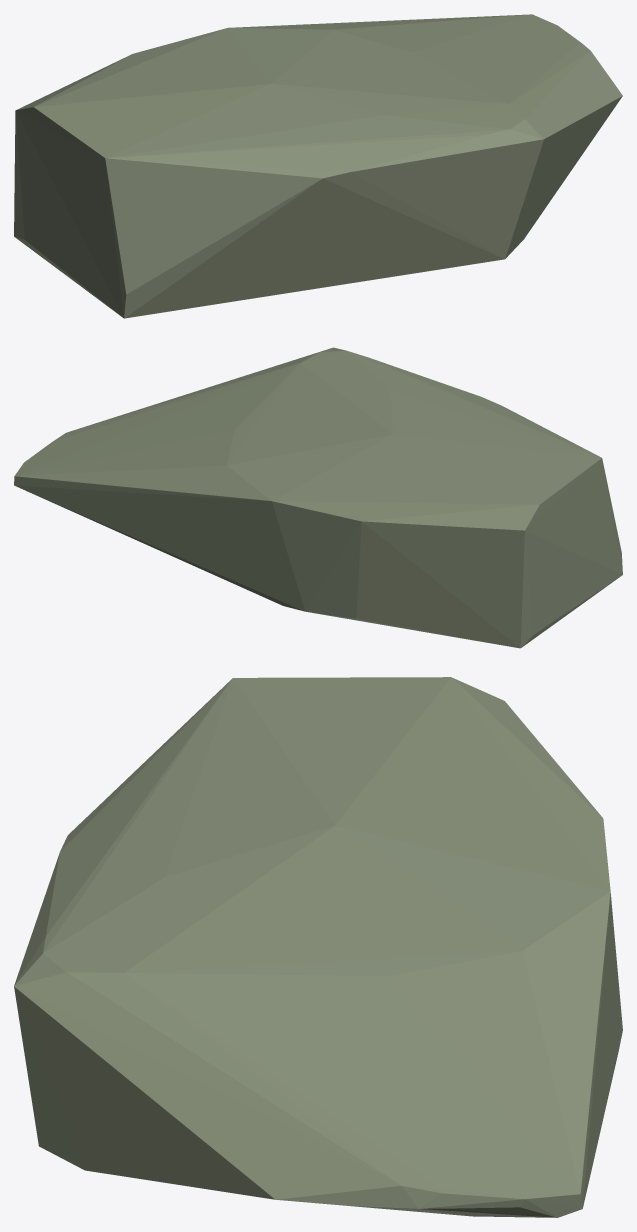
The model's file is equipment_airHoseReel_retractable_a01.glb.
3 renders of one model, top to bottom at view 1: azimuth 30°, elevation 25°; view 2: azimuth 150°, elevation 25°; view 3: azimuth 270°, elevation 25°, orthographic. The views are drawn at different scales.
Parts seen in each view (by area): view 1: geometry_0; view 2: geometry_0; view 3: geometry_0.
Part boxes in pixels (left/top/right/bottom): geometry_0: left=14, top=14, right=622, bottom=318; geometry_0: left=14, top=347, right=622, bottom=648; geometry_0: left=14, top=677, right=622, bottom=1217.
Bounding box in the file's own units: 0.479 × 0.1229 × 0.297.
